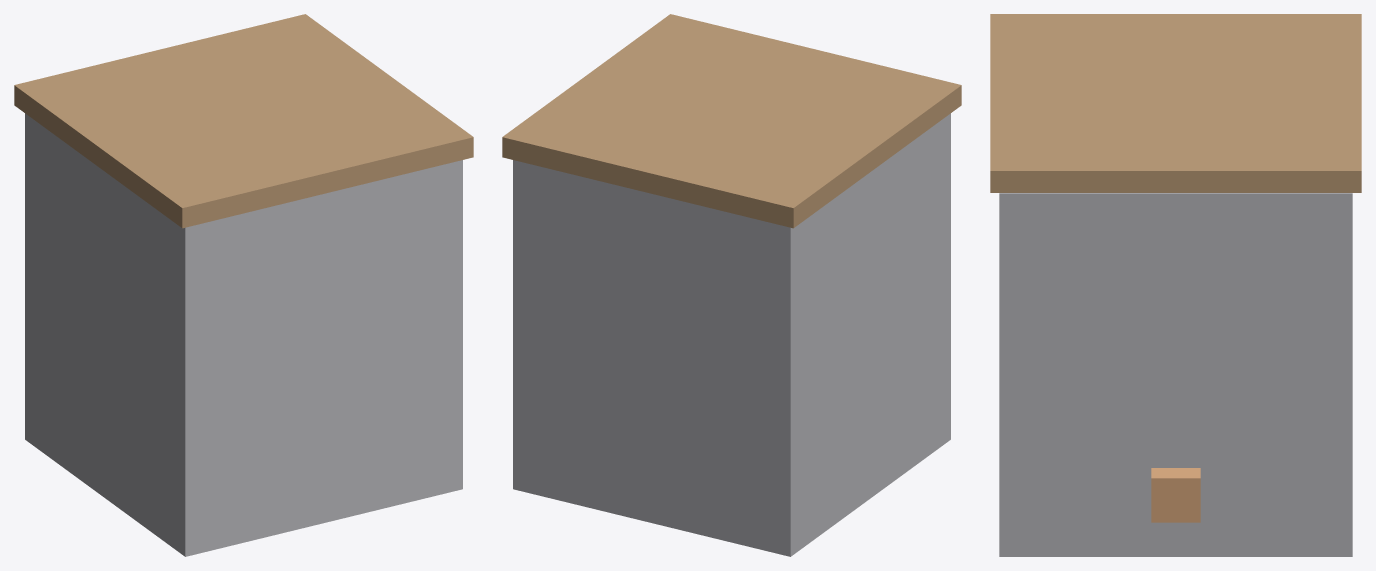
Rendered from Prop_Water_AMF_Cistern_V5.glb.
3 renders of one model, left to right at view 1: azimuth 30°, elevation 25°; view 2: azimuth 150°, elevation 25°; view 3: azimuth 270°, elevation 25°, orthographic. The views are drawn at different scales.
Visible parts, largest first — view 1: Prop_Water_AMF_Cistern_V5; view 2: Prop_Water_AMF_Cistern_V5; view 3: Prop_Water_AMF_Cistern_V5.
Boxes of the visible parts, left/top/right/bottom form: Prop_Water_AMF_Cistern_V5: left=14, top=14, right=473, bottom=556; Prop_Water_AMF_Cistern_V5: left=502, top=14, right=961, bottom=556; Prop_Water_AMF_Cistern_V5: left=990, top=14, right=1361, bottom=556.
Size of the model in its own units: 1.57 by 1.75 by 1.51.
